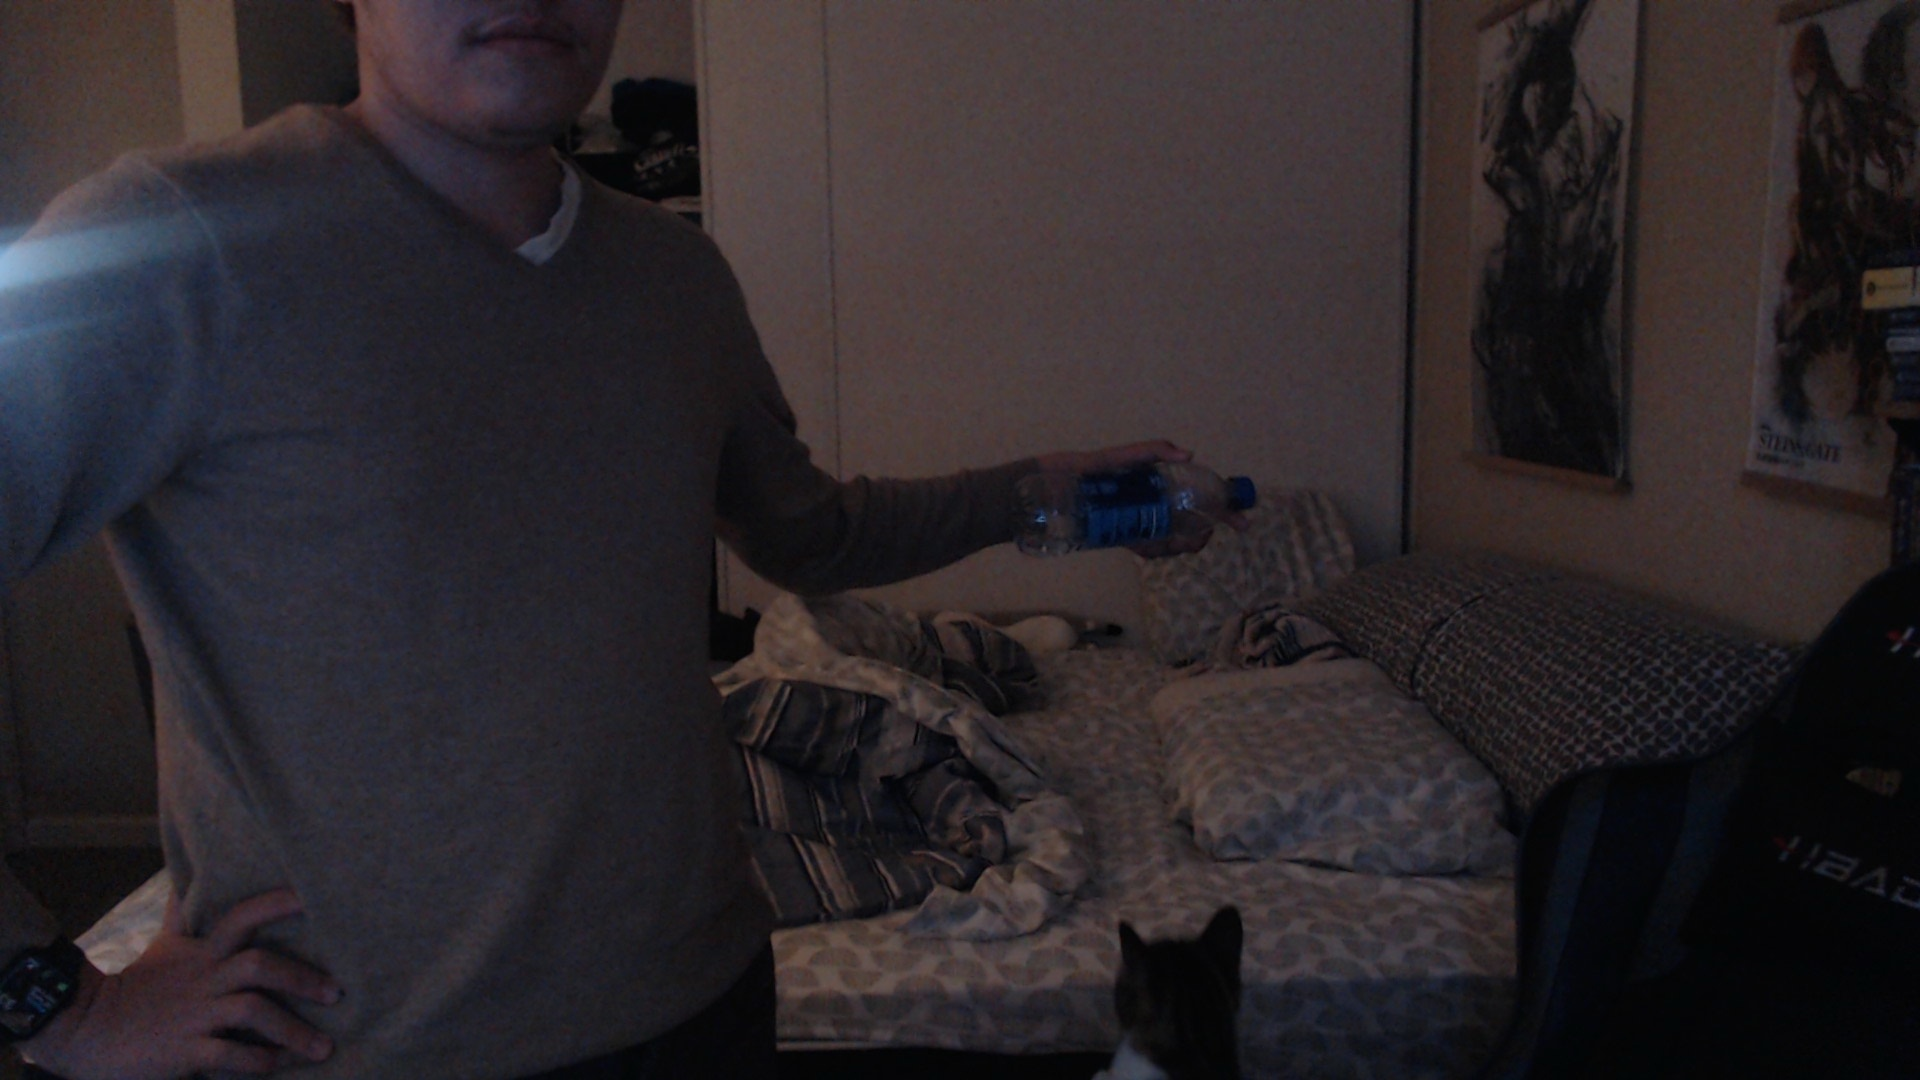bottle: (1007, 459, 1255, 559)
